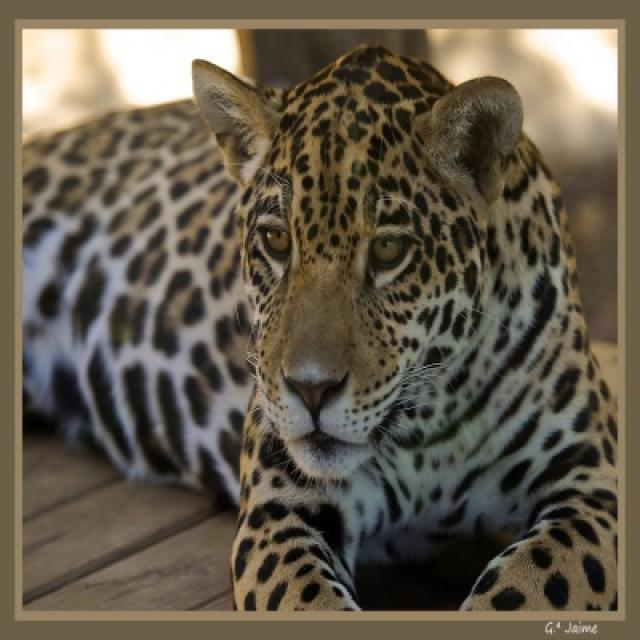Jaguar: (26, 48, 621, 614)
